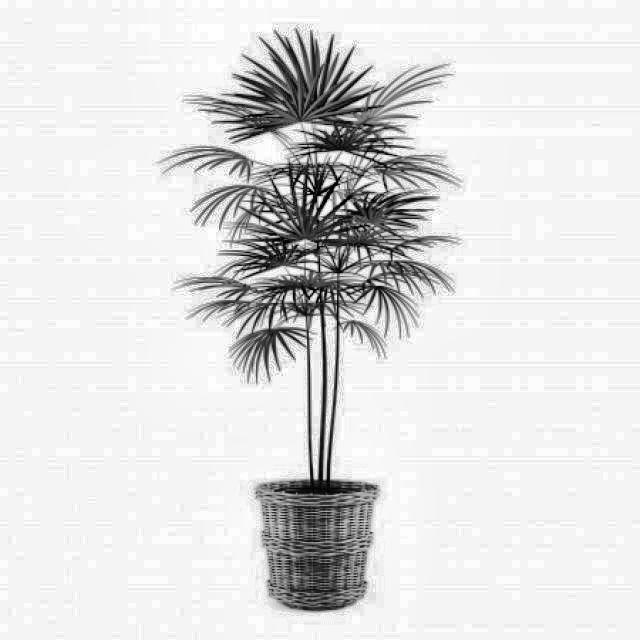plants: (181, 23, 445, 612)
